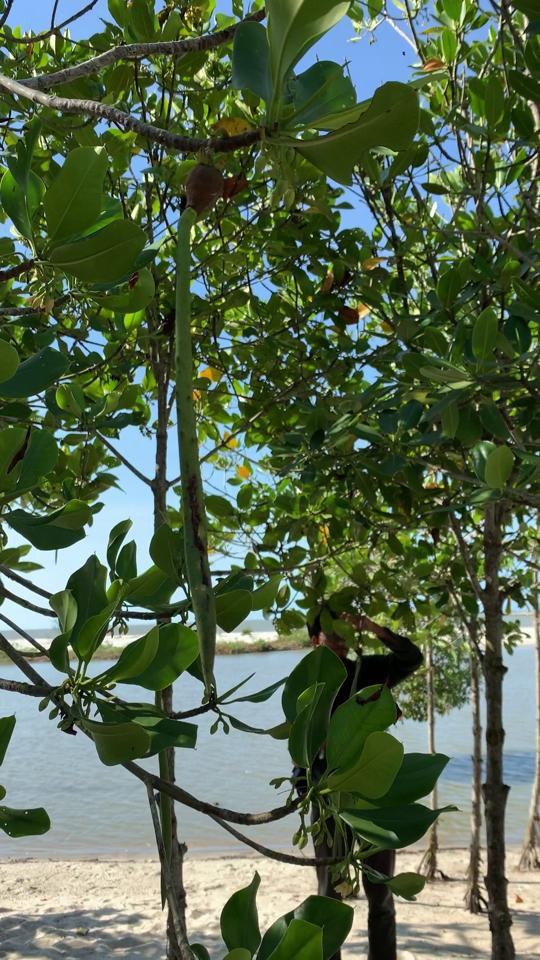setengah matang: (160, 147, 241, 710)
